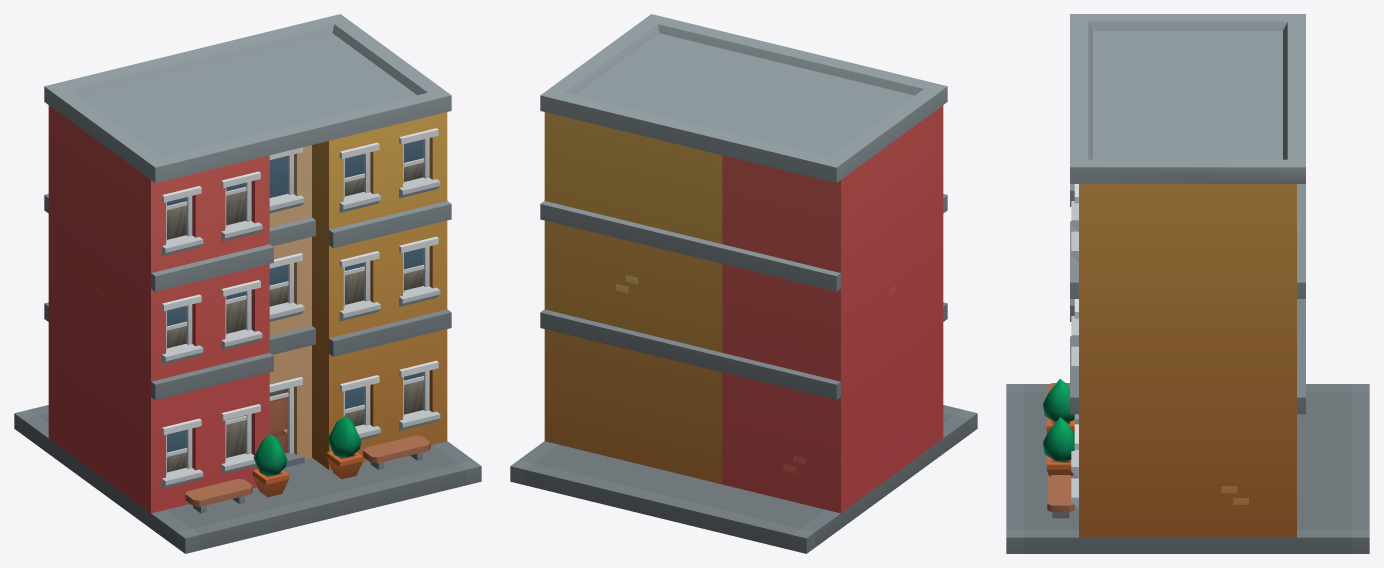
The model's file is building-F.glb.
The picture shows the model from 3 angles, left to right: view 1: azimuth 30°, elevation 25°; view 2: azimuth 150°, elevation 25°; view 3: azimuth 270°, elevation 25°; orthographic projection. The views are drawn at different scales.
Parts seen in each view (by area): view 1: building_F; view 2: building_F; view 3: building_F.
Part boxes in pixels (x1,y1,x2,y2): building_F: (14, 14, 481, 553); building_F: (510, 14, 977, 553); building_F: (1006, 14, 1369, 553).
Bounding box in the file's own units: 2.01 × 2.35 × 2.
Materials: 1 (1 with a texture image).
